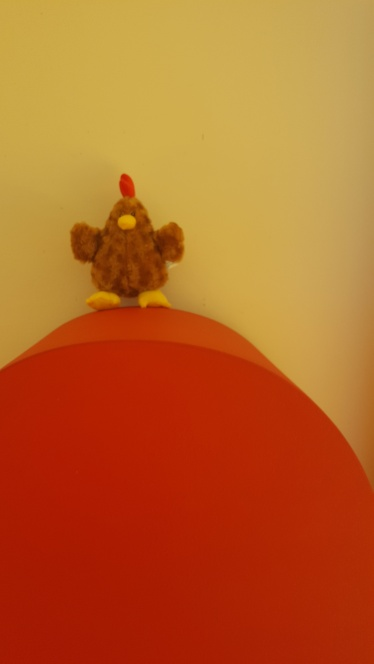chicken_front: (68, 173, 188, 312)
